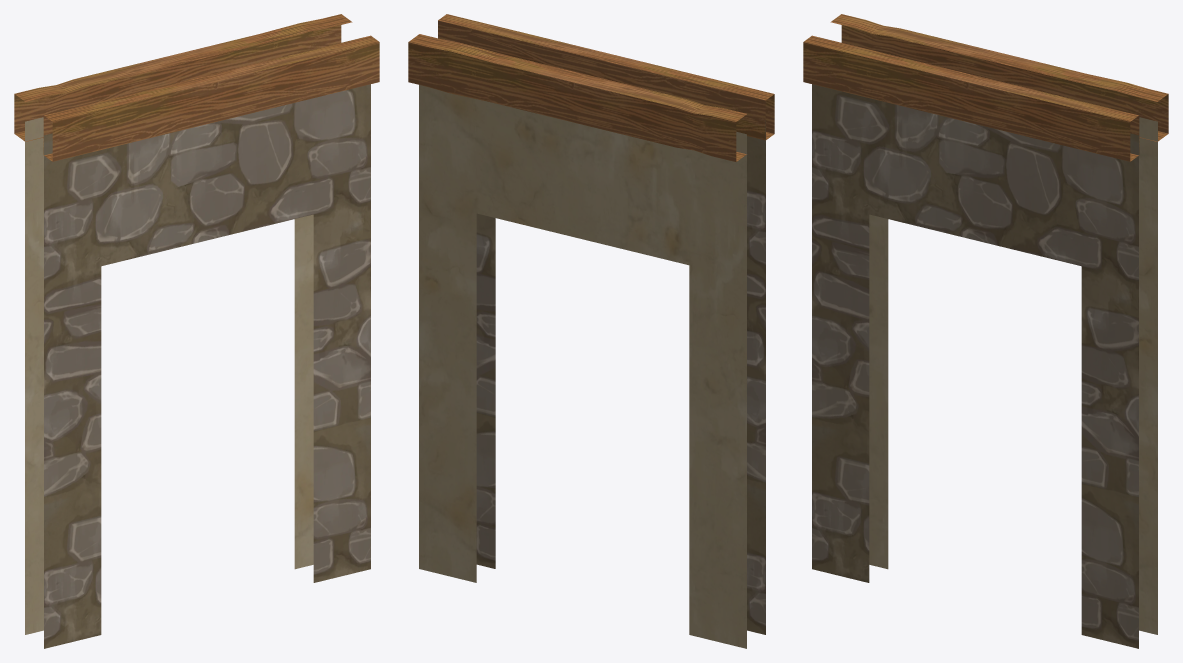
The model's file is Wall_UnevenBrick_Door_Flat.gltf.
3 renders of one model, left to right at view 1: azimuth 30°, elevation 25°; view 2: azimuth 150°, elevation 25°; view 3: azimuth 330°, elevation 25°, orthographic.
Visible parts, largest first — view 1: Wall_UnevenBrick_Door_Flat; view 2: Wall_UnevenBrick_Door_Flat; view 3: Wall_UnevenBrick_Door_Flat.
Part boxes in pixels (box(x1,y1,x2,y2)): Wall_UnevenBrick_Door_Flat: box(14, 14, 379, 648); Wall_UnevenBrick_Door_Flat: box(408, 14, 774, 648); Wall_UnevenBrick_Door_Flat: box(803, 14, 1168, 648).
Bounding box in the file's own units: 2 × 3.12 × 0.4065.
Materials: 3 (3 with a texture image).
